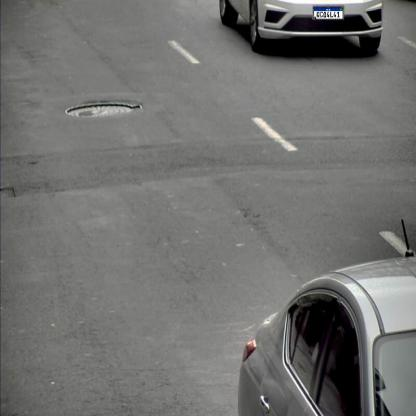PlacaM: (314, 8, 343, 20)
